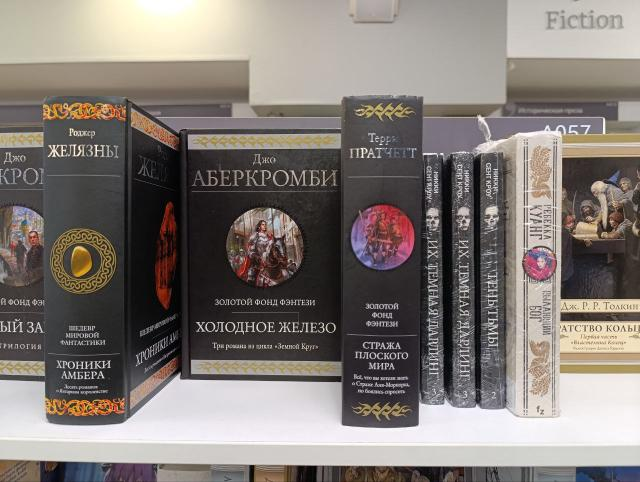book-s-spine: (42, 95, 128, 424), (341, 93, 424, 428), (515, 131, 563, 418), (450, 150, 477, 410), (480, 152, 505, 410), (421, 154, 445, 406)
